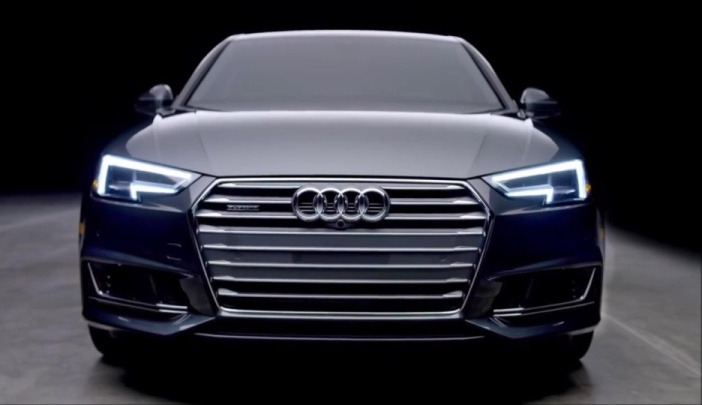audi: (283, 182, 393, 230)
